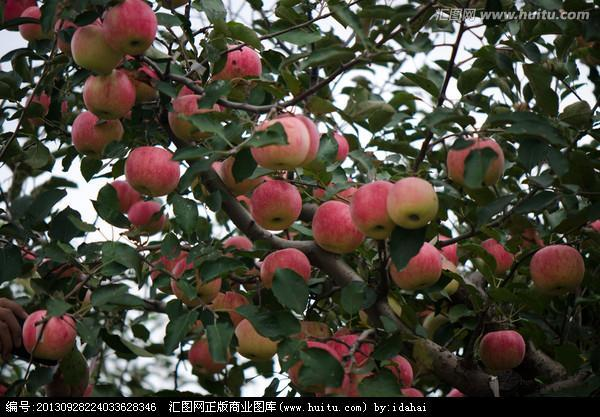apple: (252, 115, 309, 169), (124, 146, 181, 196), (313, 199, 364, 254), (103, 3, 158, 53), (387, 175, 437, 228), (529, 244, 583, 293), (250, 181, 301, 232), (171, 255, 222, 306), (71, 110, 125, 158), (83, 71, 136, 119), (351, 181, 394, 239), (389, 243, 443, 289), (71, 26, 118, 73), (478, 328, 525, 372), (235, 315, 280, 359), (188, 337, 228, 376)
